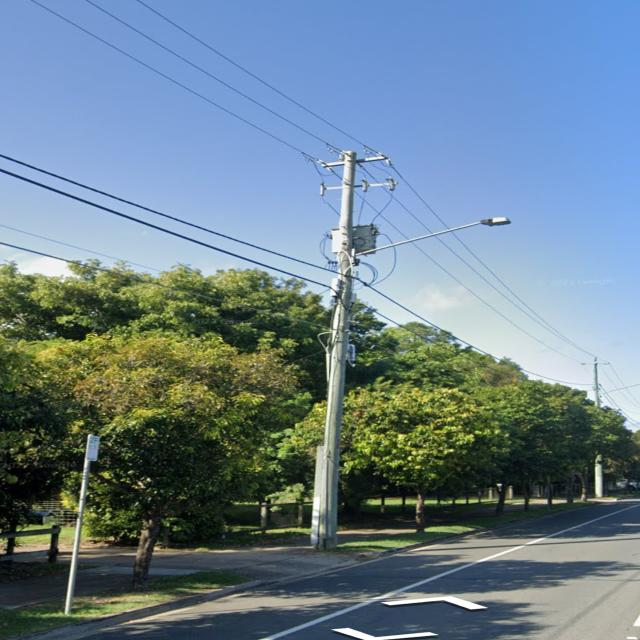HV-transmission: (305, 148, 397, 192)
concrete-pole: (317, 149, 356, 550)
crossarm: (318, 175, 397, 197), (321, 155, 388, 168)
streetlight: (350, 217, 510, 257)
transformer: (325, 222, 382, 257)
